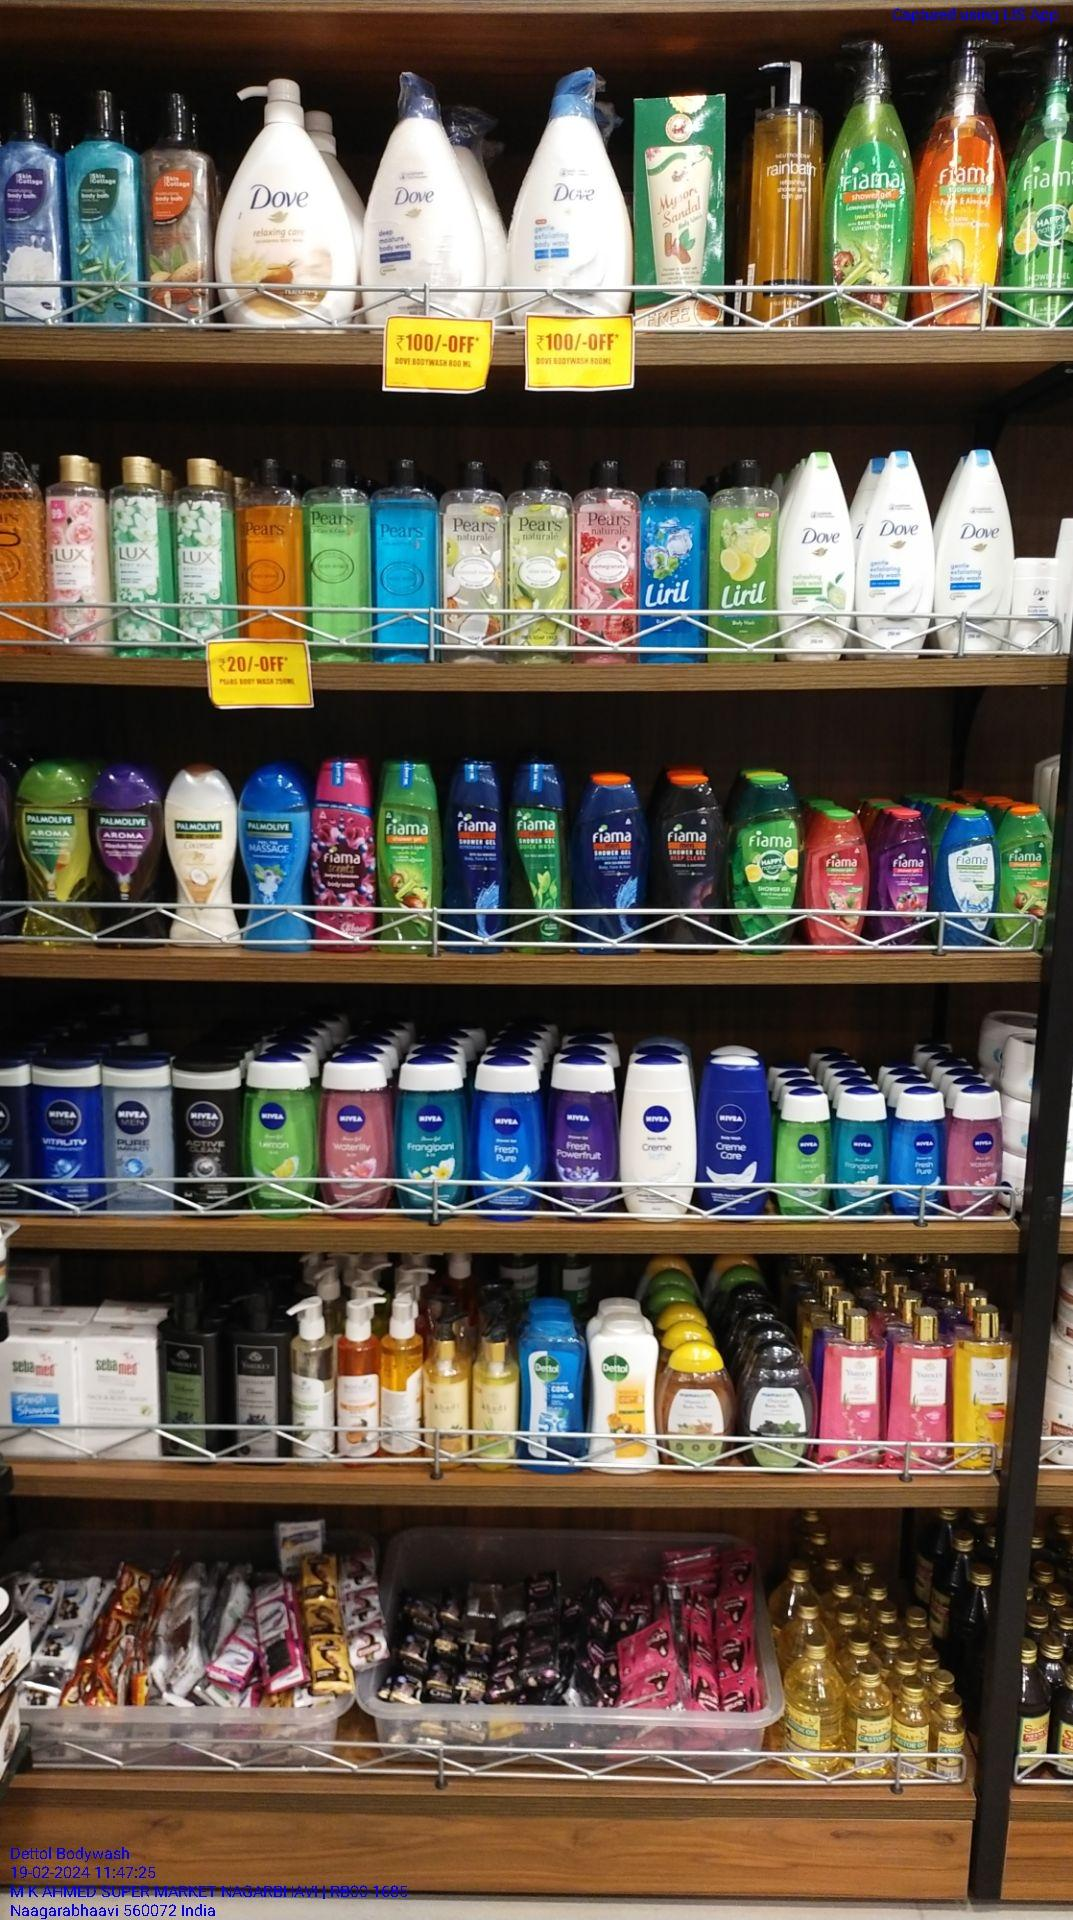Dettol_Bodywash_Cool: (518, 1308, 583, 1465)
Dove_Gentle_Exfoliating_Body_Wash_250ML: (848, 450, 935, 661), (940, 446, 1014, 658)
Dove_Refreshing_Body_Wash_250ML: (788, 450, 846, 654)
Fiama_Shower_Gel_Patchouli_and_Macadamia_250ML: (804, 812, 870, 938)
Liril_Cooling_Mint_Body_Wash_250ML: (641, 452, 707, 667)
Liril_Lime_and_Tea_Tree_Oil_Body_Wash_250ML: (713, 452, 778, 658)
Lux_Body_Wash_Skin_Detox_Freesia_Scent_and_Alove_Vera_245ML: (109, 448, 167, 667), (173, 450, 227, 658)
Nivea_Shower_Gel_Frangipani_and_Oil_250ML: (401, 1052, 465, 1217), (837, 1085, 890, 1211)
Nivea_Shower_Gel_Lemon_and_Oil_250ML: (241, 1063, 315, 1213), (779, 1096, 833, 1201)
Nivea_Shower_Gel_Waterlily_and_Oil_250ML: (320, 1052, 395, 1201), (948, 1080, 1010, 1211)
Palmolive_Aroma_Moments_Feel_The_Massage_Shower_Gel_250ML: (231, 762, 310, 943)
Palmolive_Aroma_Morning_Tonic_Shower_Gel_250ML: (21, 758, 88, 944)
Palmolive_Aroma_Relax_250ML: (90, 753, 163, 943)
Pears_Naturale_Aloe_Vera_Body_Wash_250ML: (505, 455, 575, 658)
Pears_Pure_Glycerin_and_Lemon_Flower_Extracts_Body_Wash_250ML: (298, 458, 368, 665)
Pears_Pure_Glycerin_and_Mint_Extracts_Body_Wash_250ML: (376, 458, 436, 663)
